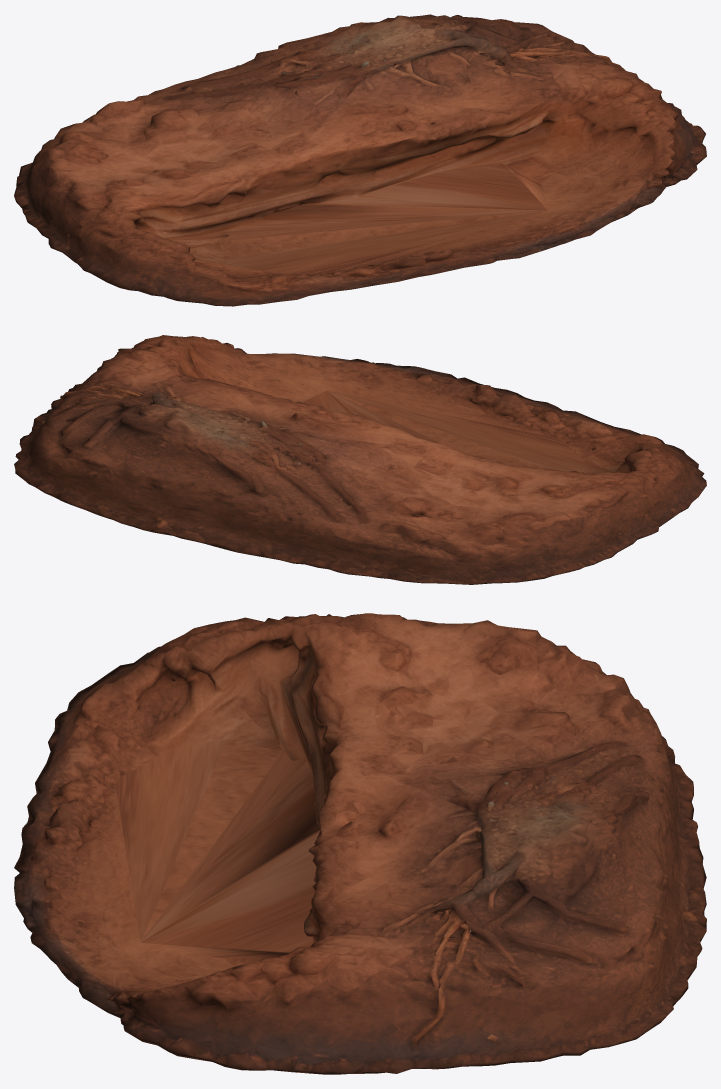
Rendered from clay-8-lod0.gltf.
3 renders of one model, top to bottom at view 1: azimuth 30°, elevation 25°; view 2: azimuth 150°, elevation 25°; view 3: azimuth 270°, elevation 25°, orthographic. The views are drawn at different scales.
Parts seen in each view (by area): view 1: clay stage 4 L0; view 2: clay stage 4 L0; view 3: clay stage 4 L0.
Part boxes in pixels (left/top/right/bottom): clay stage 4 L0: left=14, top=14, right=706, bottom=306; clay stage 4 L0: left=14, top=335, right=706, bottom=584; clay stage 4 L0: left=14, top=613, right=706, bottom=1074.
Bounding box in the file's own units: 1.76 × 0.216 × 1.21.
Materials: 1 (1 with a texture image).
